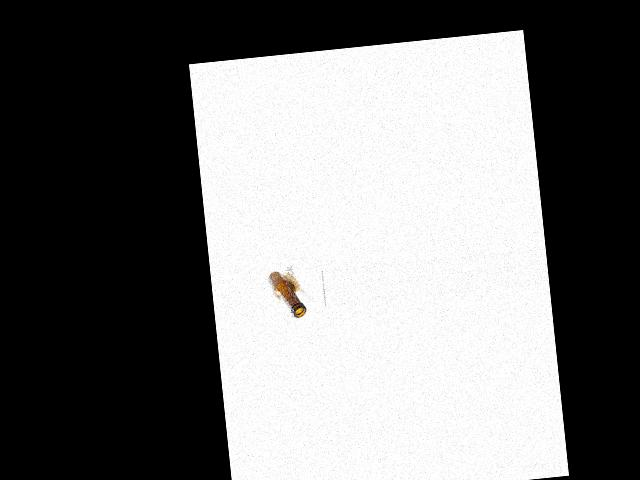beer: (267, 268, 307, 320)
